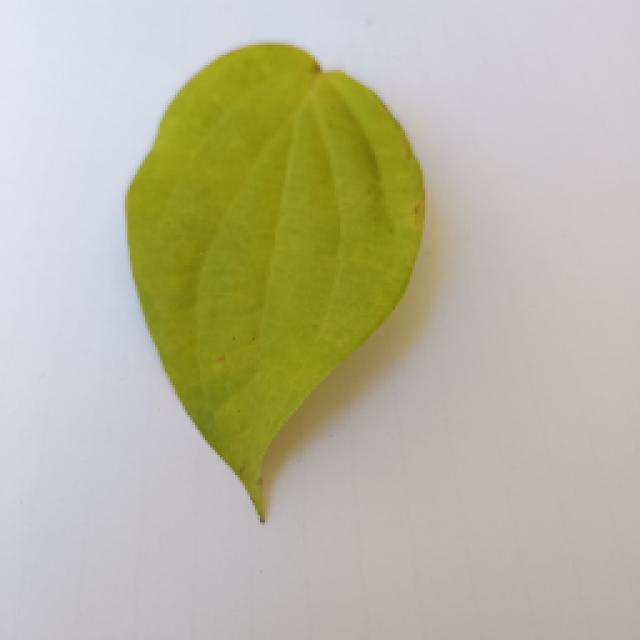slow-decline: (110, 35, 435, 520)
